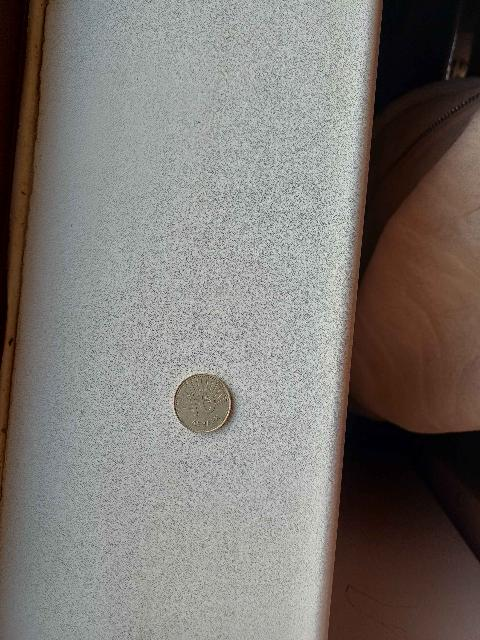10_coin: (175, 374, 231, 432)
